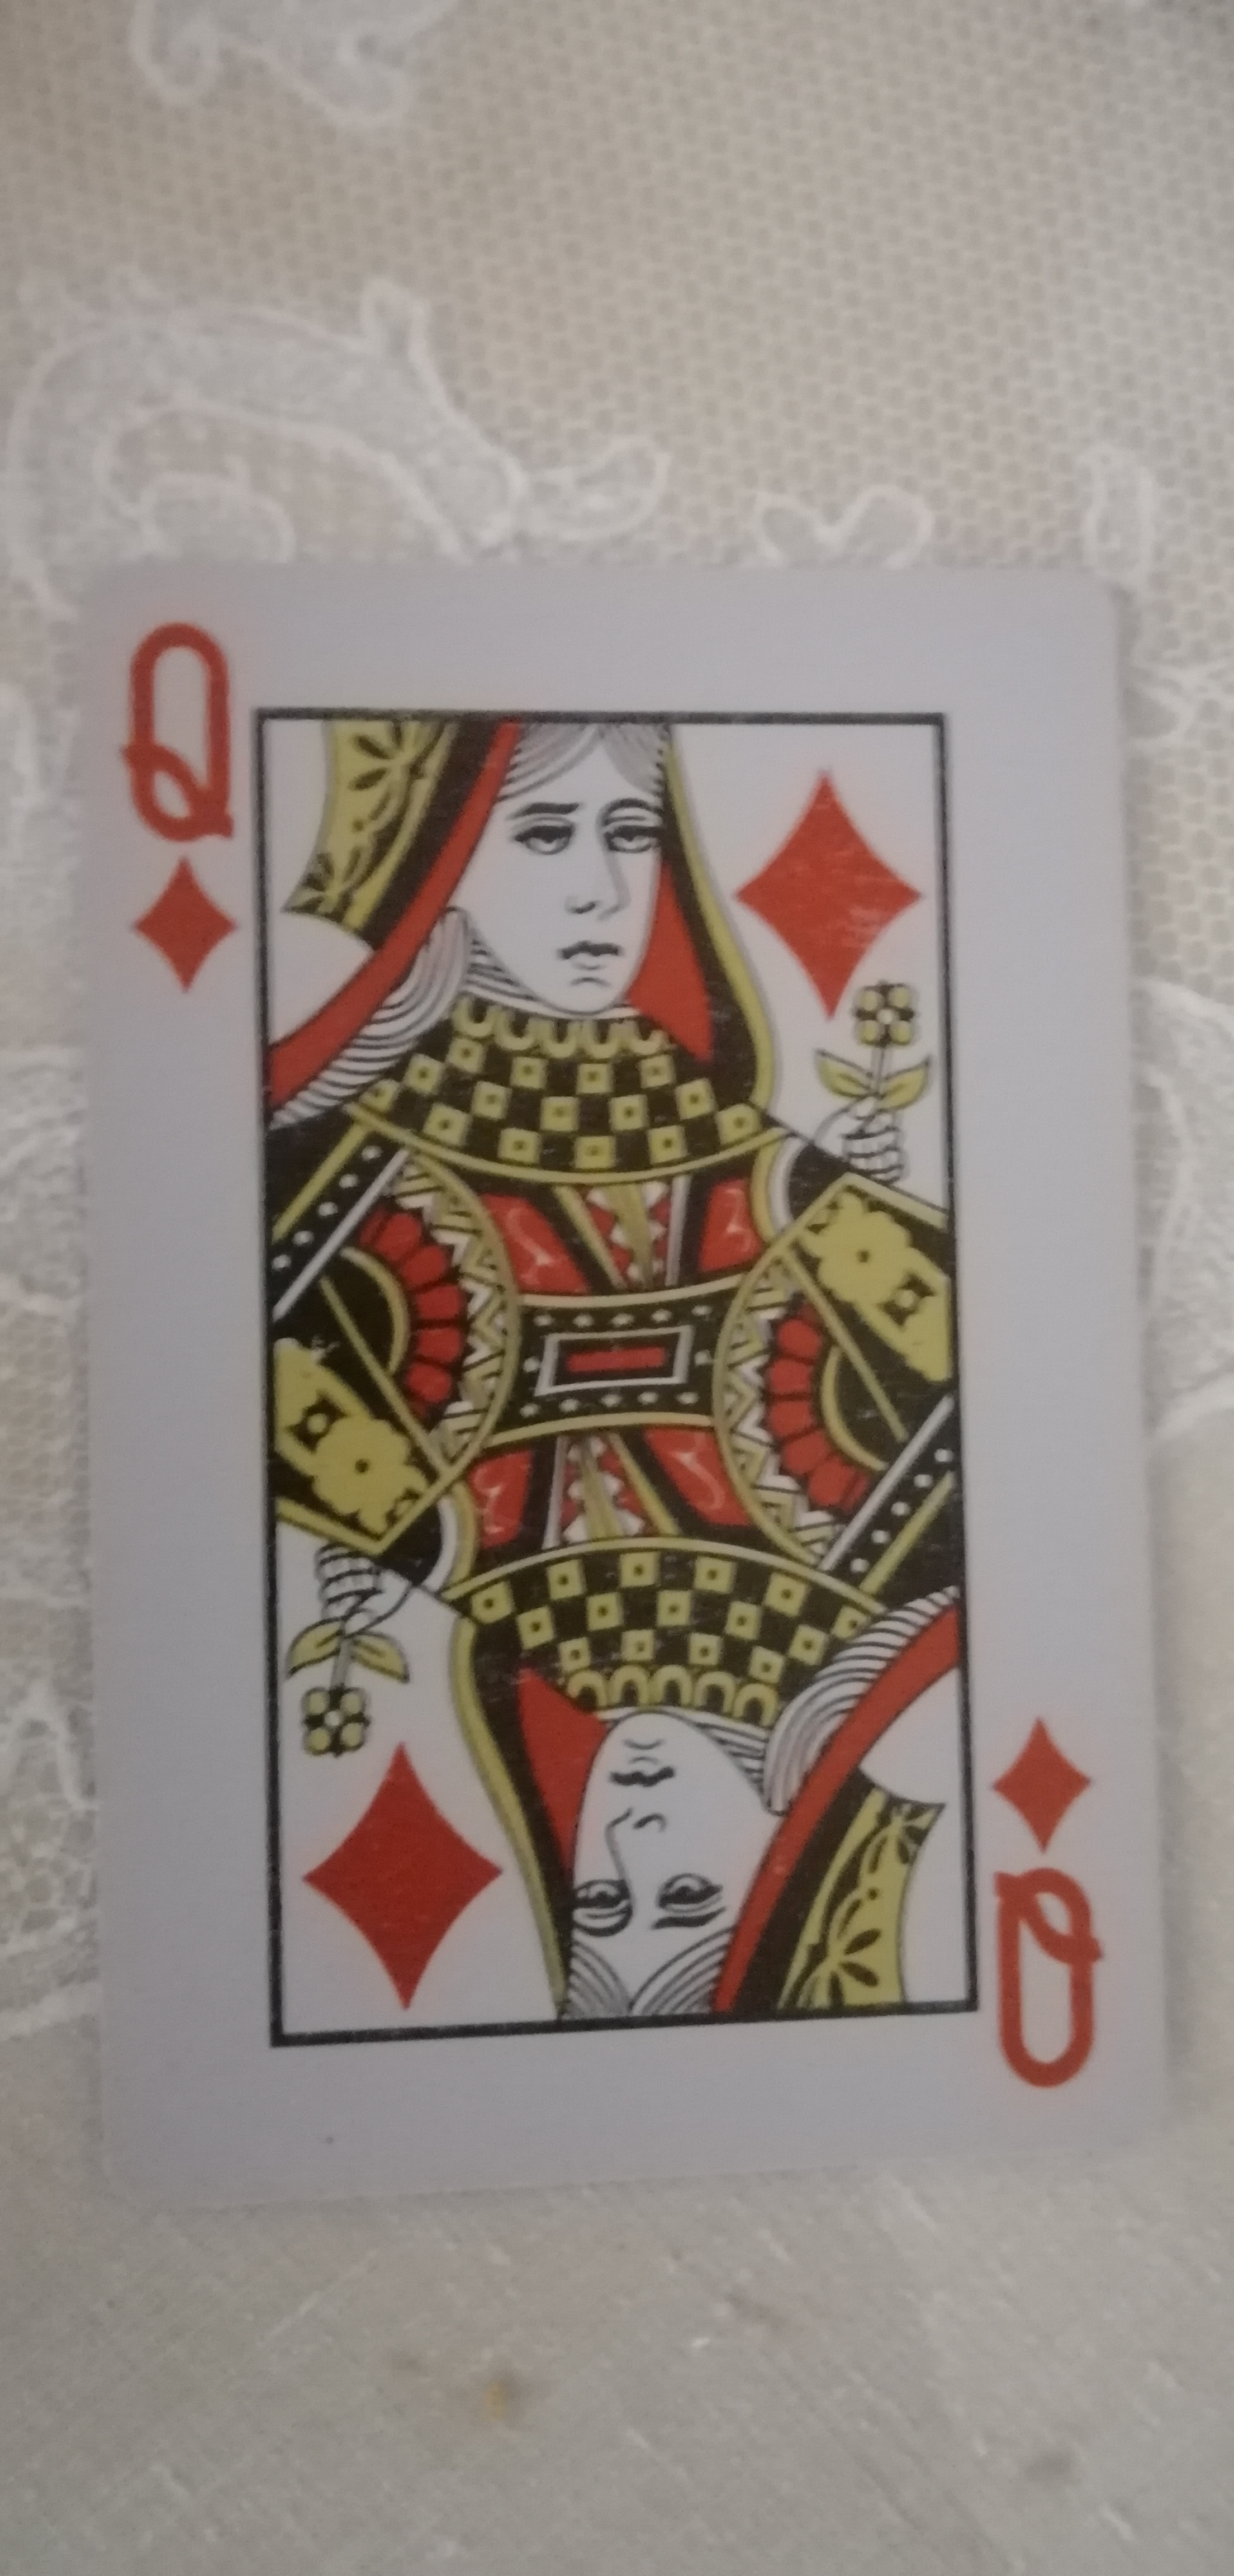queen: (69, 545, 1203, 2196)
